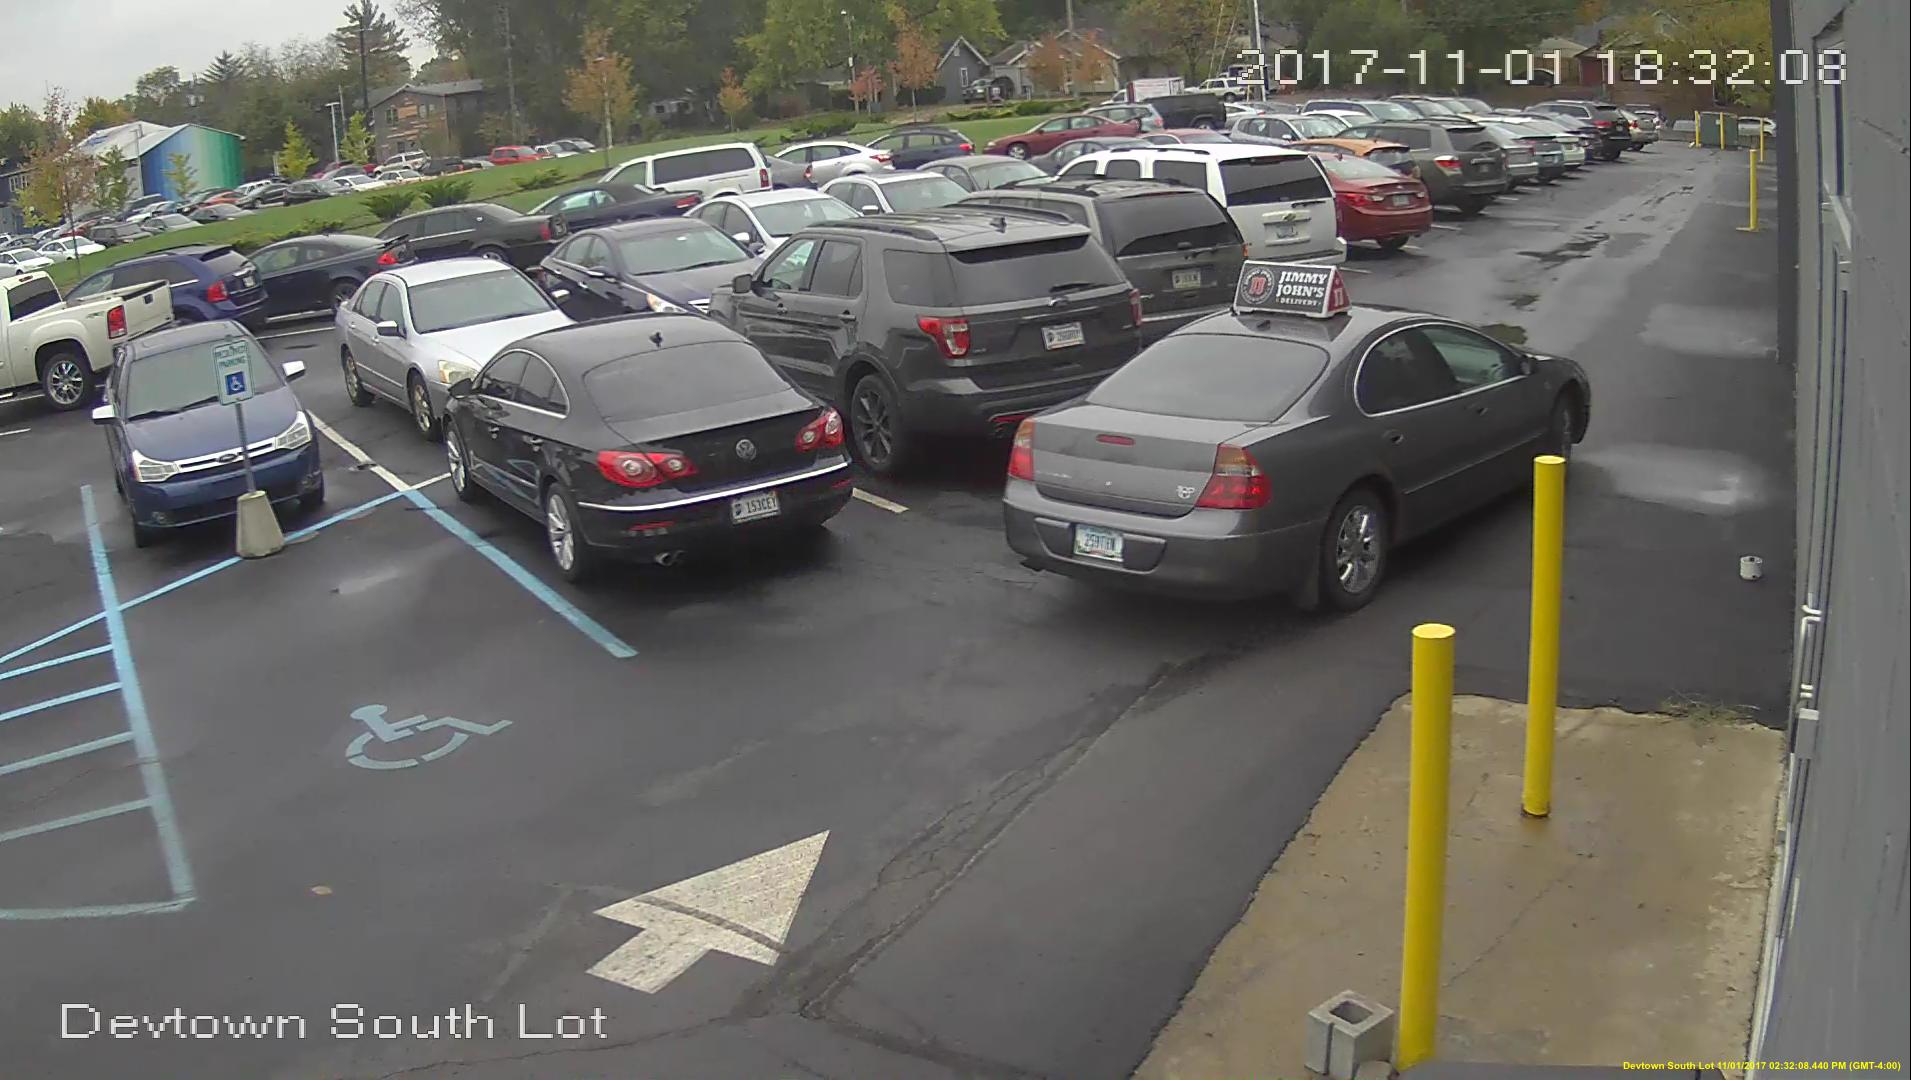jimmy_johns: (1232, 255, 1348, 320)
